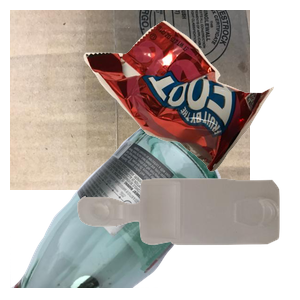cardboard: (10, 10, 250, 190)
glass: (10, 120, 224, 300)
plastic: (75, 176, 300, 300)
trash: (81, 18, 300, 182)
